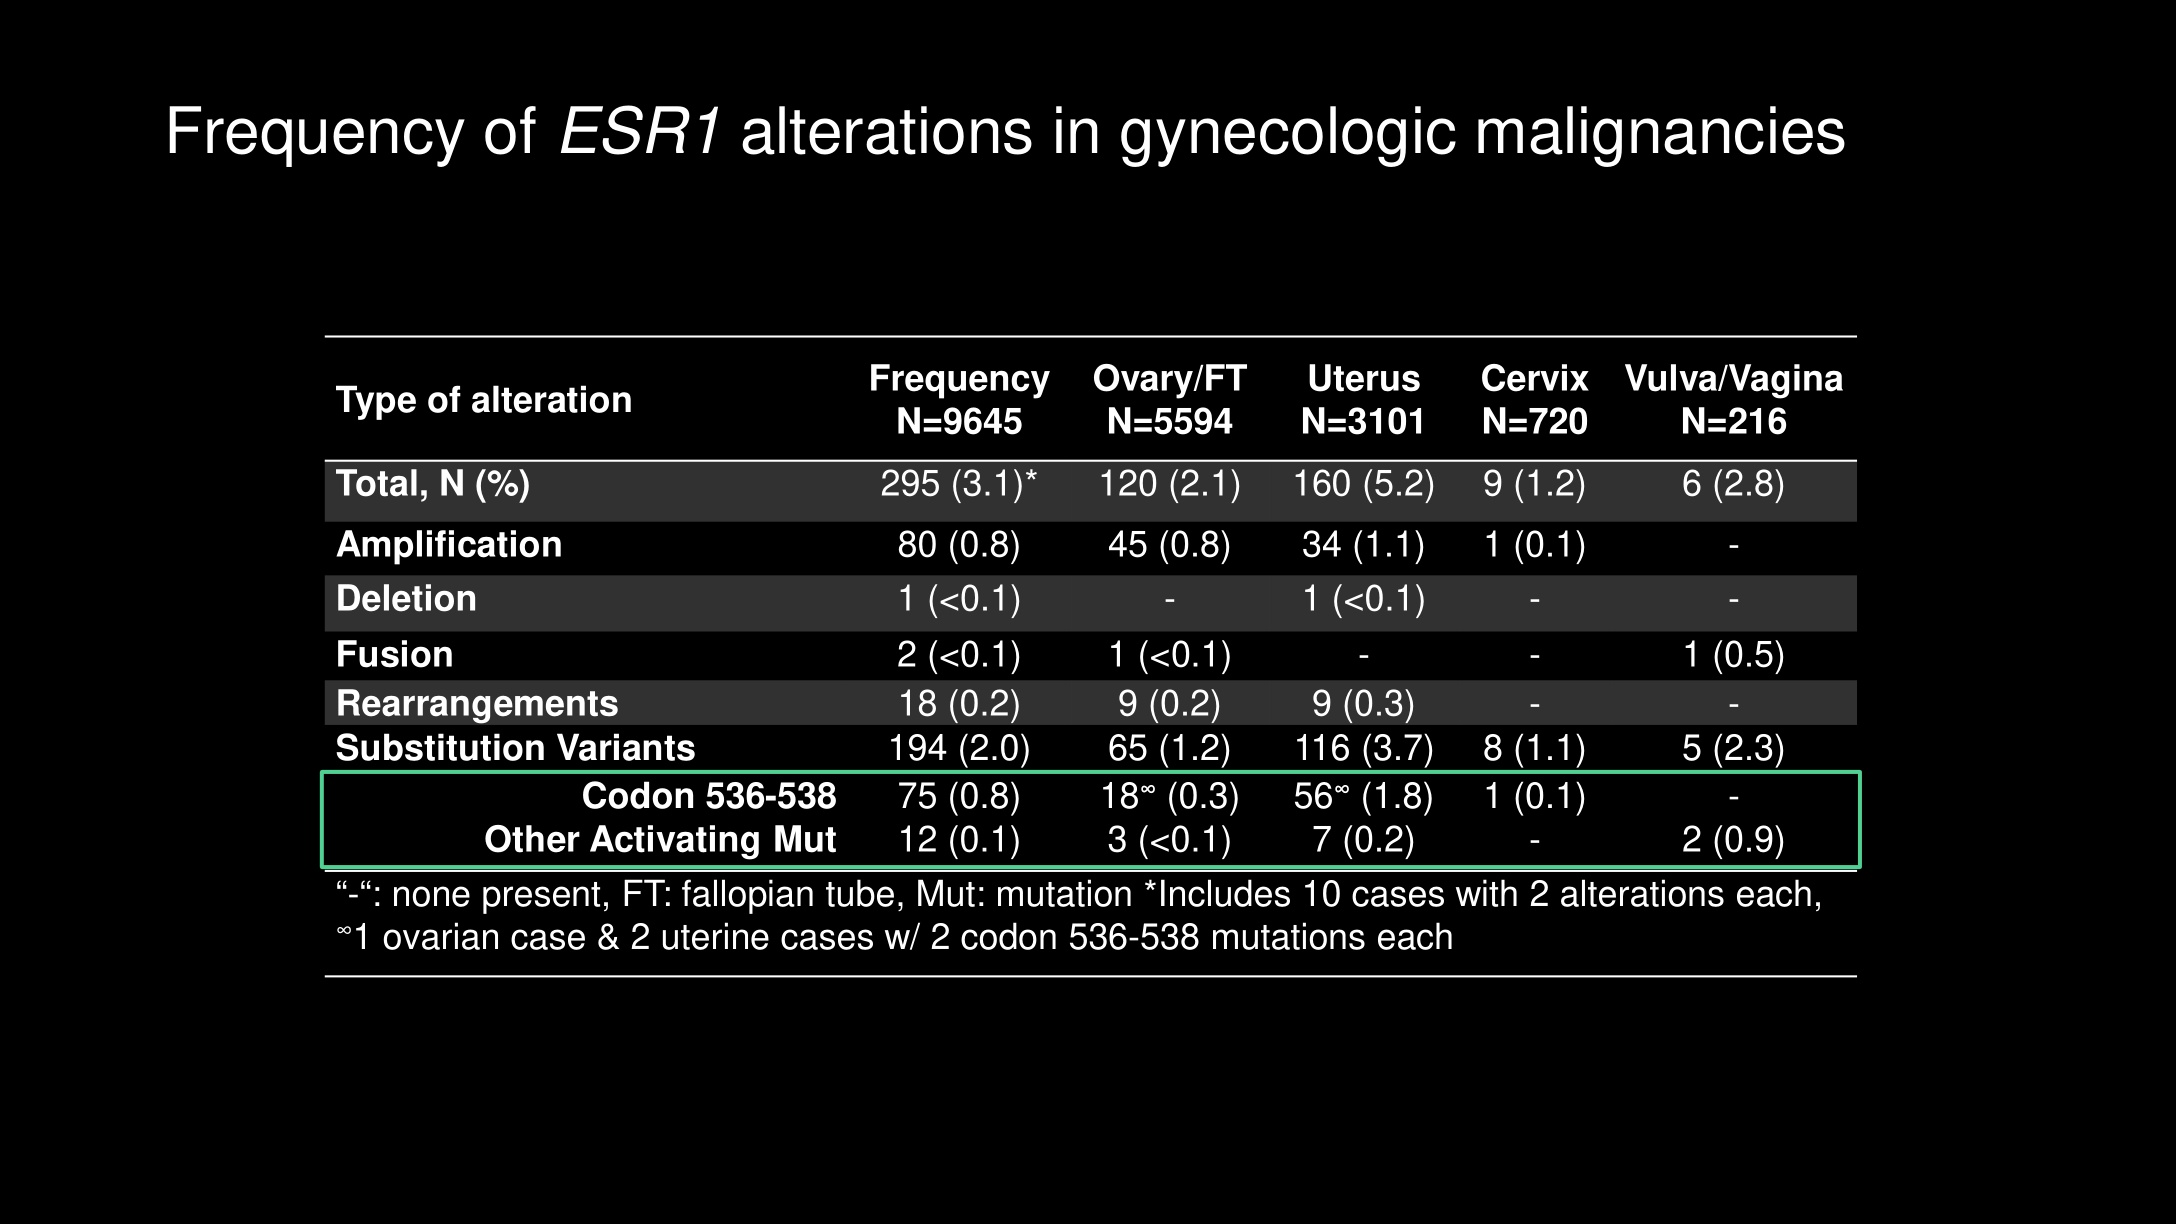partial_lined: (321, 333, 1862, 980)
